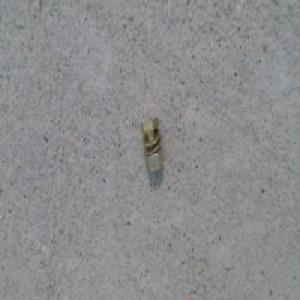BoltNutSet: (140, 116, 164, 176)
